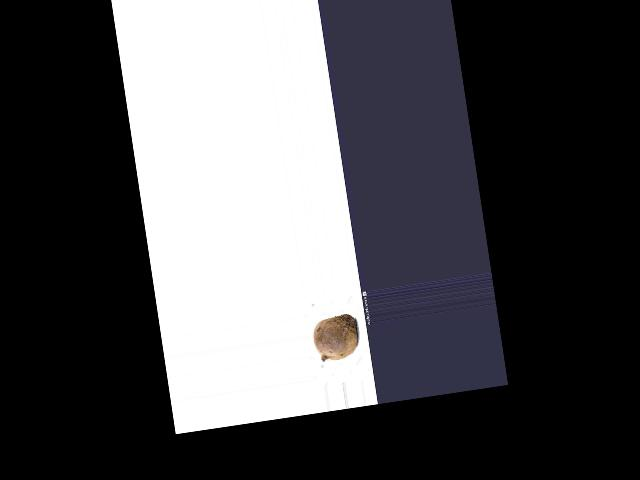beet: (311, 313, 361, 363)
